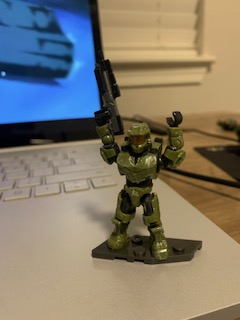chief: (92, 108, 186, 262)
rifle: (89, 50, 125, 137)
spartan: (90, 106, 184, 260)
up: (93, 107, 187, 187)
